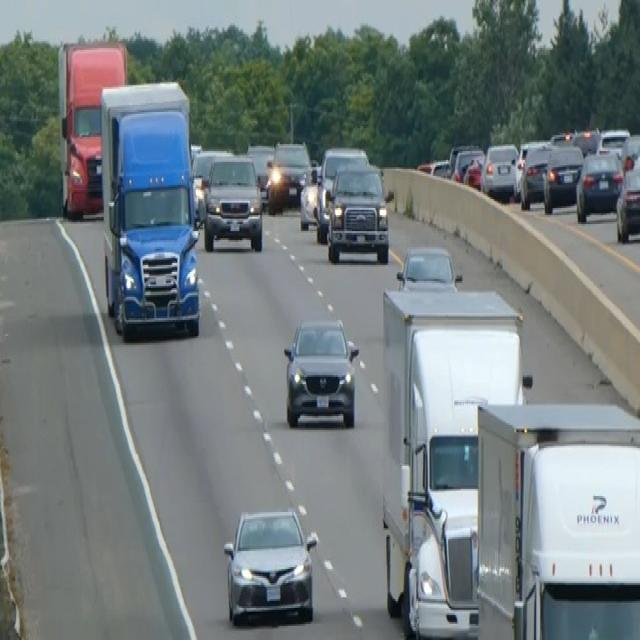car: (222, 505, 318, 624), (201, 153, 263, 252), (314, 144, 369, 240), (575, 146, 622, 222), (266, 138, 310, 212), (395, 244, 462, 292), (190, 146, 232, 220), (542, 140, 583, 212), (480, 140, 519, 201), (519, 140, 551, 208), (615, 158, 639, 242), (246, 142, 274, 203), (298, 162, 321, 229), (452, 146, 484, 185), (598, 126, 630, 158), (462, 154, 485, 188), (416, 156, 449, 178), (620, 132, 639, 170)
jeep: (282, 316, 360, 428), (325, 162, 390, 263)
lorry: (98, 76, 202, 342)
